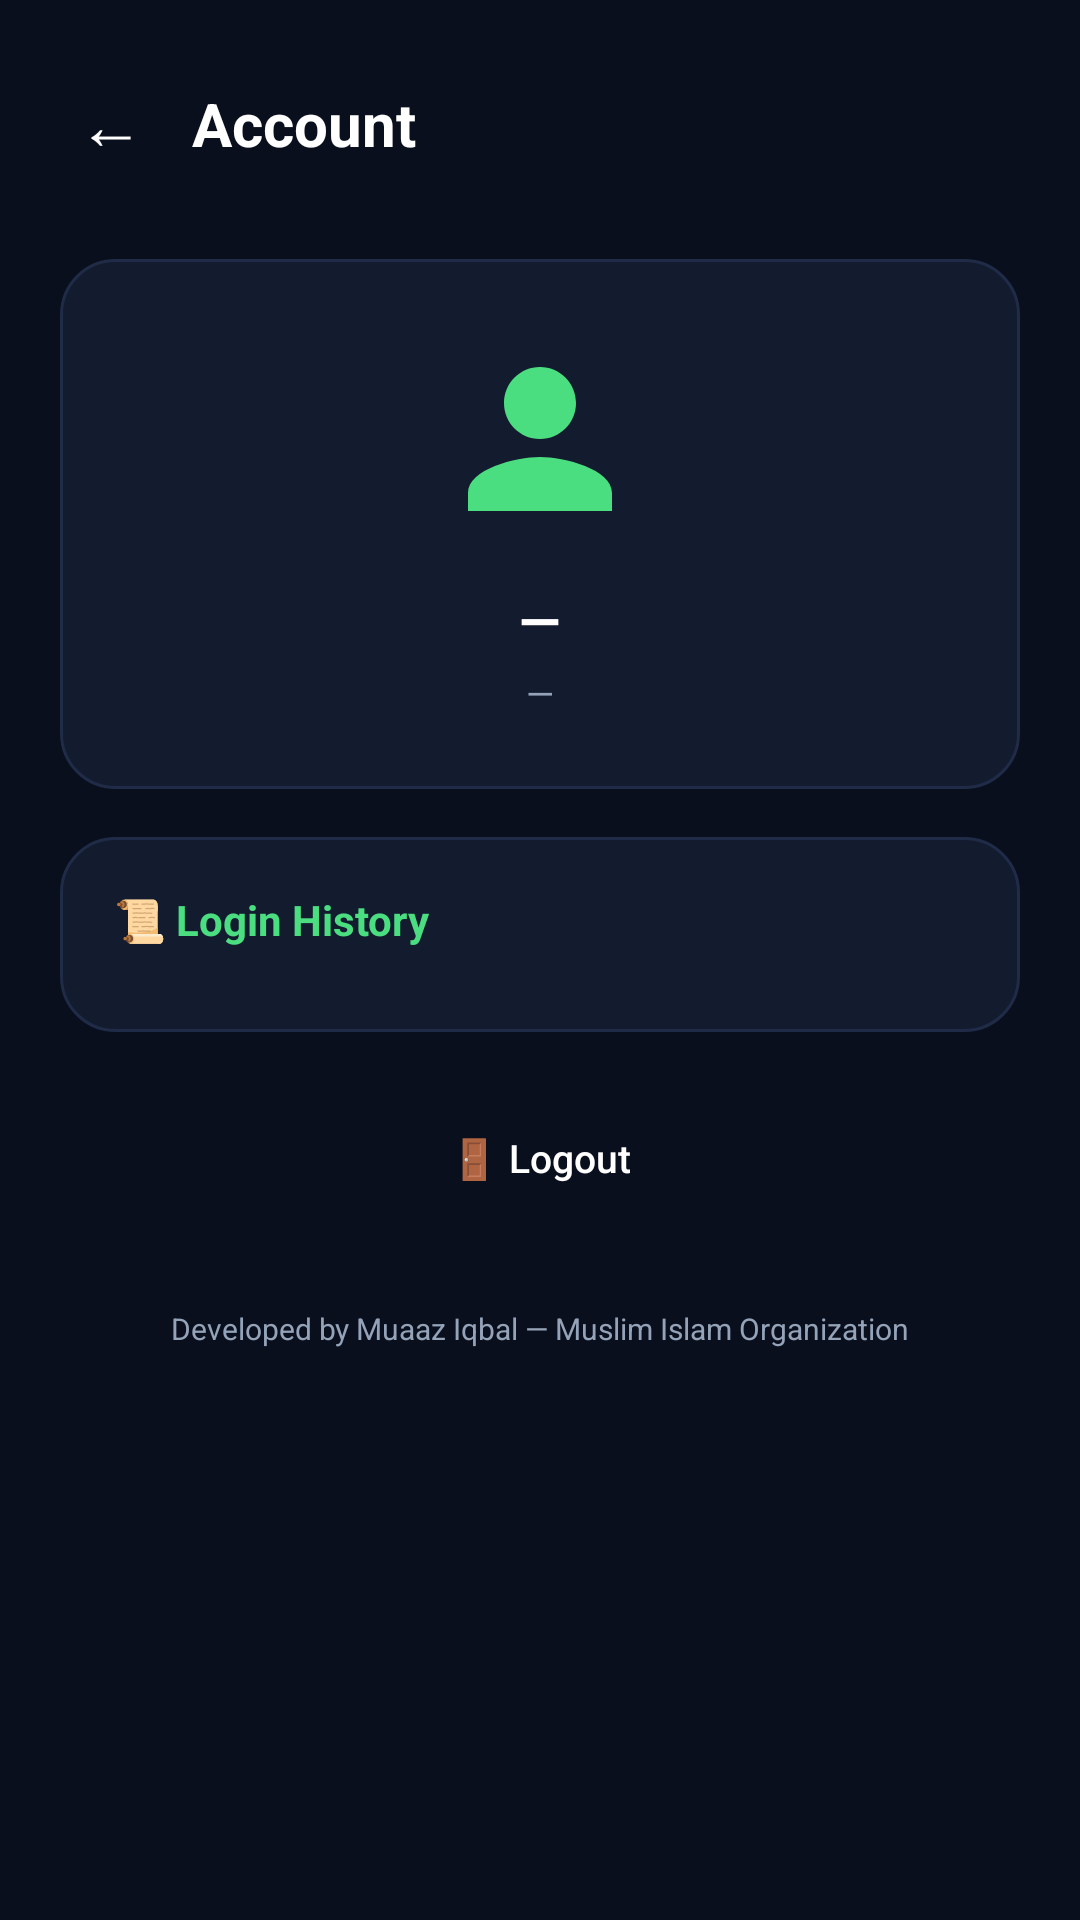

Screen size 1080px x 1920px. Icon name, then its center in pixels as (x=x, y=y):
account: (x=540, y=439)
